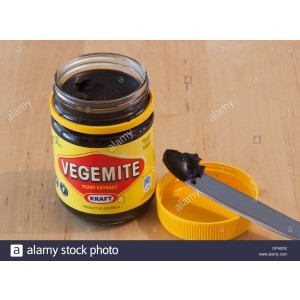yeast spread_brain food: (50, 83, 157, 225), (162, 146, 207, 187)
